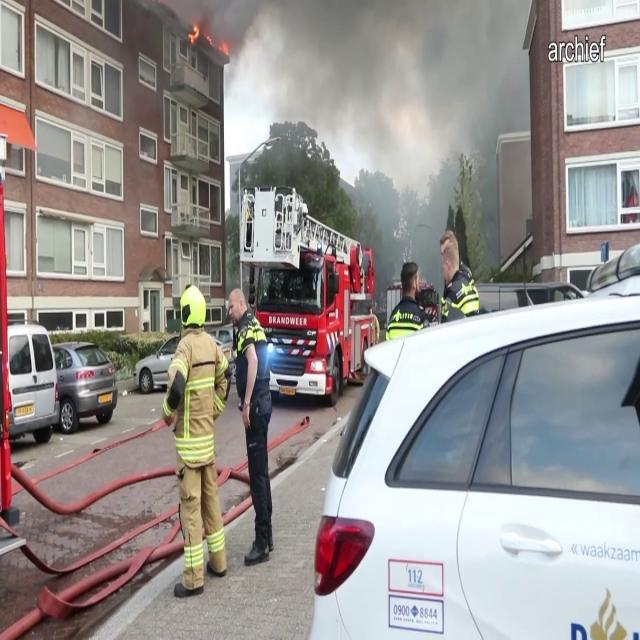Smoke: (200, 0, 551, 225), (185, 18, 206, 58)
